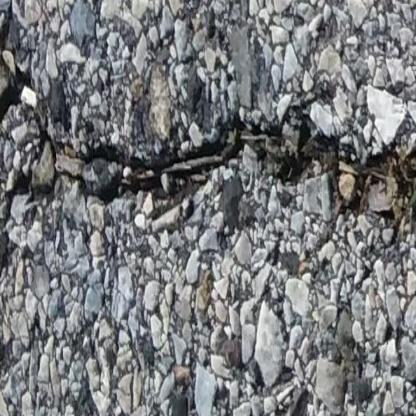Cracks: (0, 7, 416, 217)
